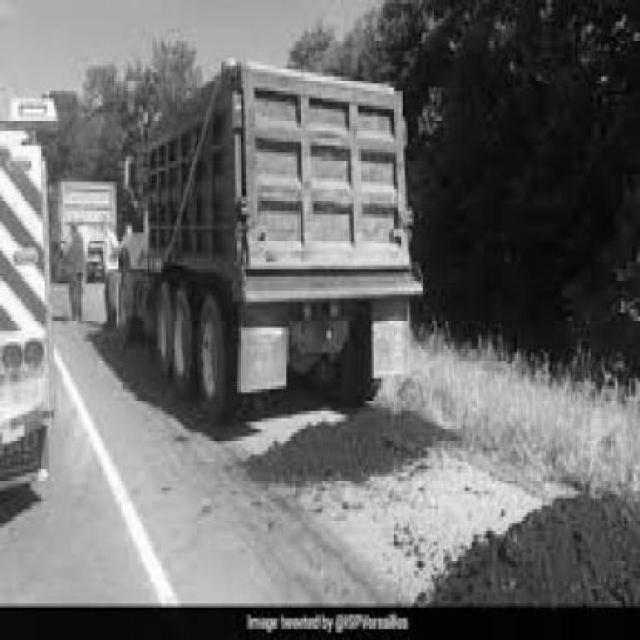Truck- Multi-Axle: (106, 60, 427, 423)
